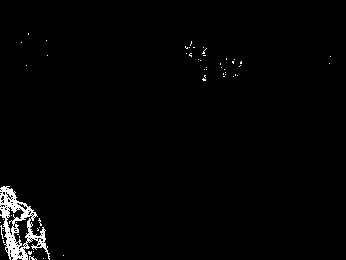person: (1, 185, 53, 259)
